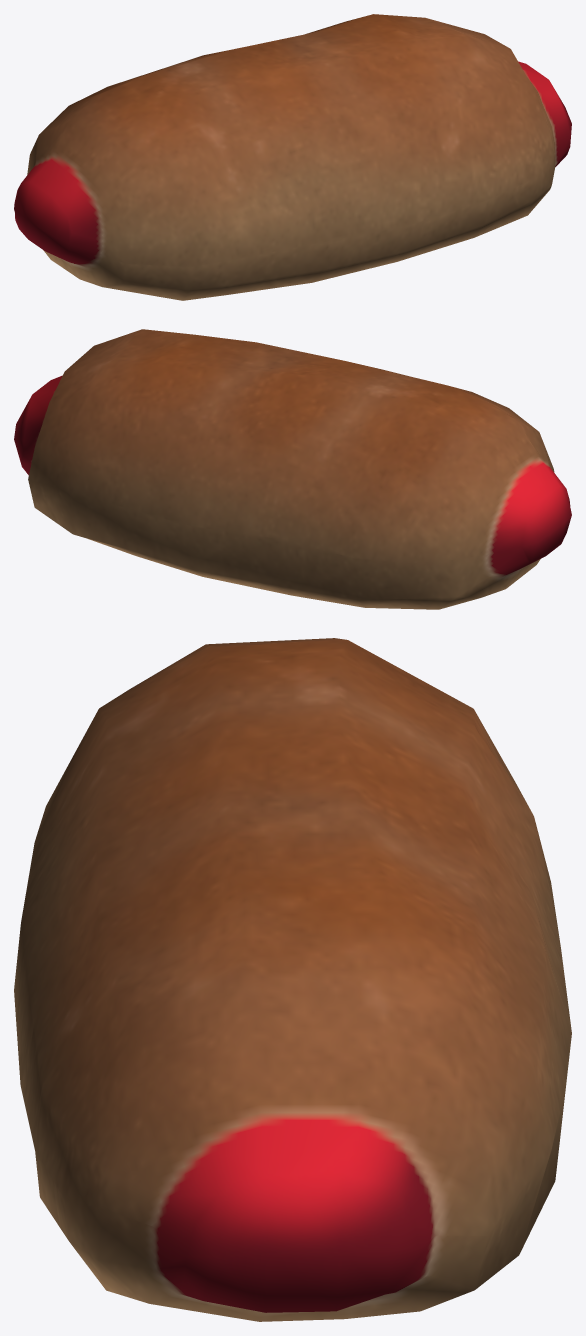
File: roti 2.fbx
3 renders of one model, top to bottom at view 1: azimuth 30°, elevation 25°; view 2: azimuth 150°, elevation 25°; view 3: azimuth 270°, elevation 25°, orthographic. The views are drawn at different scales.
Visible parts, largest first — view 1: roti 2; view 2: roti 2; view 3: roti 2.
Boxes of the visible parts, x1,y1,x2,y2 form: roti 2: (14, 14, 571, 300); roti 2: (14, 329, 571, 609); roti 2: (14, 638, 571, 1321).
Bounding box in the file's own units: 33.29 × 11.93 × 15.87.
Materials: 1 (1 with a texture image).
